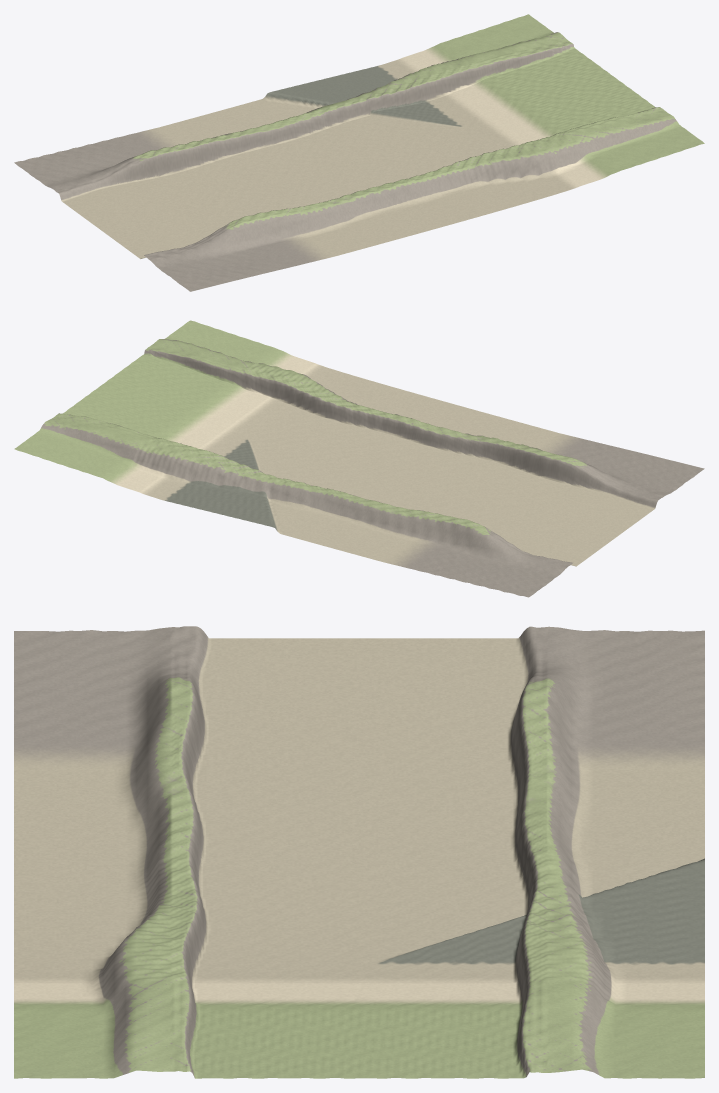
The model's file is terrain.glb.
The picture shows the model from 3 angles, top to bottom: view 1: azimuth 30°, elevation 25°; view 2: azimuth 150°, elevation 25°; view 3: azimuth 270°, elevation 25°; orthographic projection. The views are drawn at different scales.
Visible parts, largest first — view 1: Beach; view 2: Beach; view 3: Beach.
Part boxes in pixels (x1=…): Beach: x1=14, y1=14, x2=704, y2=291; Beach: x1=14, y1=320, x2=704, y2=597; Beach: x1=14, y1=626, x2=704, y2=1078.
Size of the model in its own units: 418 by 25.02 by 248.
Materials: 1 (1 with a texture image).
